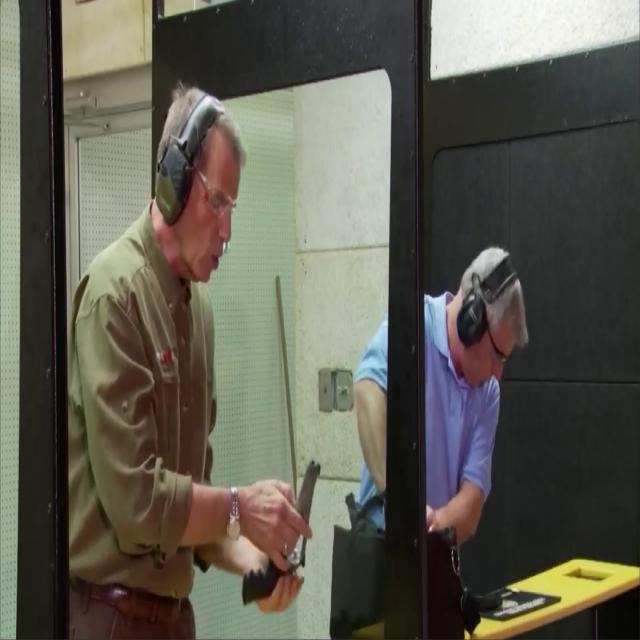weapon: (243, 458, 322, 608)
